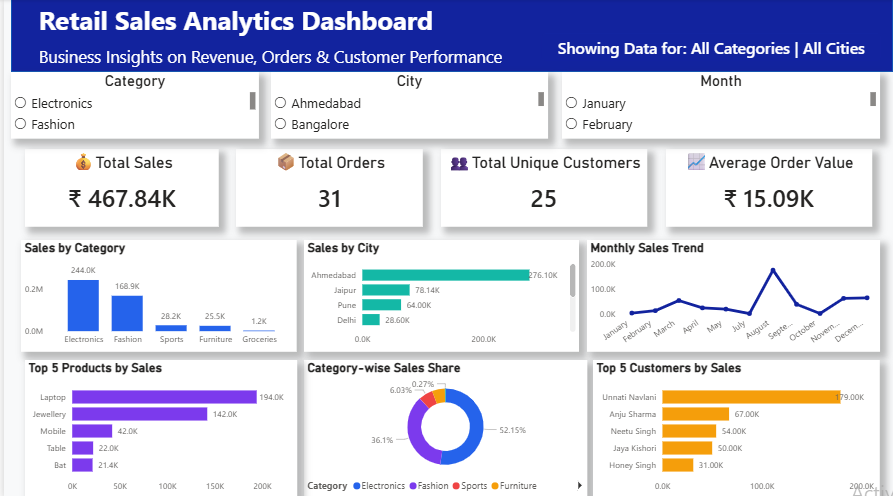

The page's visual inventory and layout, read from the dashboard file:
{"tool":"powerbi","page":{"name":"Page 1","canvas":[1280,720],"ordinal":0},"visuals":[{"type":"shape","box":[10.1,0,1270.1,105.1],"z":0},{"type":"textbox","box":[10.1,0,648,60.5],"z":1000},{"type":"textbox","box":[10.1,60.5,747.4,44.6],"z":2000},{"type":"cardVisual","title":"💰Total Sales","fields":{"Data":["sales_analysis sales.Total Sales"]},"box":[30.2,216,279.4,112.3],"z":3000},{"type":"cardVisual","title":"📦Total Orders","fields":{"Data":["sales_analysis sales.Total Orders"]},"box":[334.1,216,269.3,112.3],"z":4000},{"type":"cardVisual","title":"👥Total Unique Customers","fields":{"Data":["sales_analysis sales.Total Unique Customers"]},"box":[629.3,216,296.6,112.3],"z":5000},{"type":"cardVisual","title":"📈Average Order Value","fields":{"Data":["sales_analysis sales.Average Order Value"]},"box":[953.3,216,308.2,112.3],"z":6000},{"type":"listSlicer","fields":{"Values":["sales_analysis sales.Category"]},"box":[24.5,105.1,397.4,96.5],"z":7000},{"type":"listSlicer","fields":{"Values":["sales_analysis sales.City"]},"box":[436.3,105.1,398.9,96.5],"z":8000},{"type":"listSlicer","fields":{"Values":["sales_analysis sales.Order_Date.Variation.Date Hierarchy.Month"]},"box":[848.2,105.1,413.3,96.5],"z":9000},{"type":"clusteredColumnChart","title":"Sales by Category","fields":{"Category":["sales_analysis sales.Category"],"Y":["sales_analysis sales.Total Sales"]},"box":[24.5,347,397.4,161.3],"z":10000},{"type":"clusteredBarChart","title":" Sales by City","fields":{"Category":["sales_analysis sales.City"],"Y":["sales_analysis sales.Total Sales"]},"box":[432,347,396,161.3],"z":11000},{"type":"lineChart","title":" Monthly Sales Trend","fields":{"Category":["sales_analysis sales.Order_Date.Variation.Date Hierarchy.Month"],"Y":["sales_analysis sales.Total Sales"]},"box":[839.5,347,421.9,161.3],"z":12000},{"type":"donutChart","title":" Category-wise Sales Share","fields":{"Category":["sales_analysis sales.Category"],"Y":["sales_analysis sales.Total Sales"]},"box":[432,519.8,407.5,200.2],"z":13000},{"type":"clusteredBarChart","title":"Top 5 Products by Sales","fields":{"Y":["sales_analysis sales.Total Sales"],"Category":["sales_analysis sales.Product"]},"box":[30.2,519.8,391.7,200.2],"z":14000},{"type":"clusteredBarChart","title":"Top 5 Customers by Sales","fields":{"Category":["sales_analysis sales.Customer_name"],"Y":["sales_analysis sales.Total Sales"]},"box":[848.2,519.8,413.3,200.2],"z":15000},{"type":"cardVisual","title":"📈Average Order Value","fields":{"Data":["sales_analysis sales.Current Filter"]},"box":[757.4,33.1,522.7,72],"z":16000}]}

Visuals, with their boxes in screenshot pixels (x1, y1, x2, y2), scaled from the page's 1280x720 canvas onto the 893x496 screenshot:
shape: bbox=[7, 0, 892, 72]
textbox: bbox=[7, 0, 459, 42]
textbox: bbox=[7, 42, 528, 72]
"💰Total Sales" cardVisual: bbox=[21, 149, 216, 226]
"📦Total Orders" cardVisual: bbox=[233, 149, 421, 226]
"👥Total Unique Customers" cardVisual: bbox=[439, 149, 646, 226]
"📈Average Order Value" cardVisual: bbox=[665, 149, 880, 226]
listSlicer - sales_analysis sales.Category: bbox=[17, 72, 294, 139]
listSlicer - sales_analysis sales.City: bbox=[304, 72, 583, 139]
listSlicer - sales_analysis sales.Order_Date.Variation.Date Hierarchy.Month: bbox=[592, 72, 880, 139]
"Sales by Category" clusteredColumnChart: bbox=[17, 239, 294, 350]
" Sales by City" clusteredBarChart: bbox=[301, 239, 578, 350]
" Monthly Sales Trend" lineChart: bbox=[586, 239, 880, 350]
" Category-wise Sales Share" donutChart: bbox=[301, 358, 586, 495]
"Top 5 Products by Sales" clusteredBarChart: bbox=[21, 358, 294, 495]
"Top 5 Customers by Sales" clusteredBarChart: bbox=[592, 358, 880, 495]
"📈Average Order Value" cardVisual: bbox=[528, 23, 892, 72]
